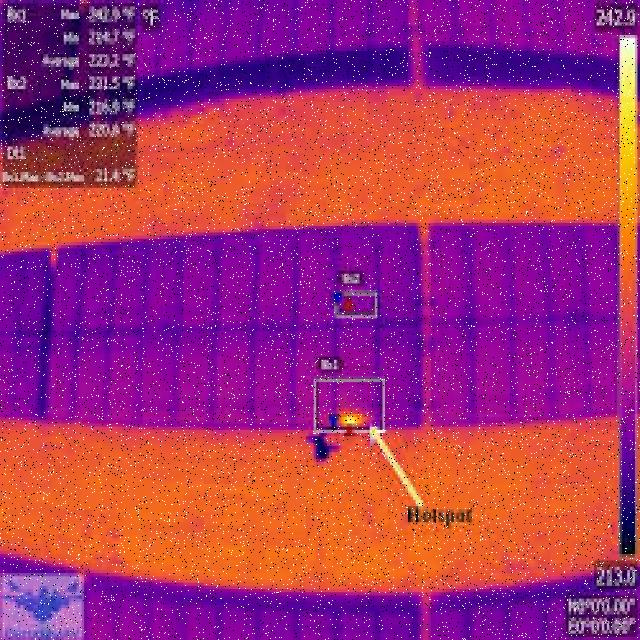Hotspot: (334, 411, 367, 426), (620, 35, 636, 54)
